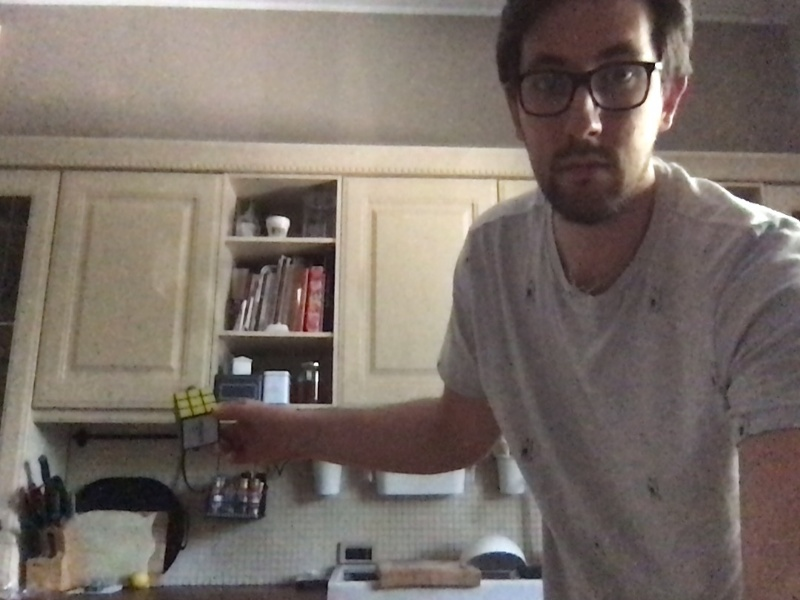rubik: (172, 387, 223, 450)
